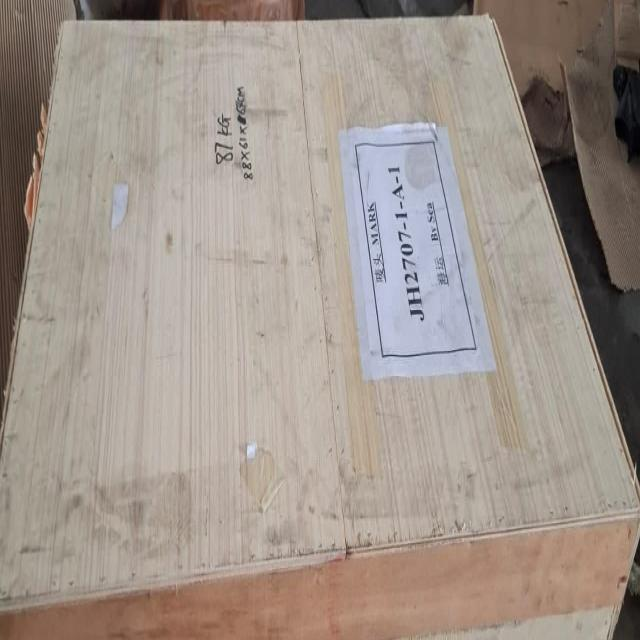export_mark_label: (333, 94, 521, 419)
wooden_box: (0, 0, 640, 640)
